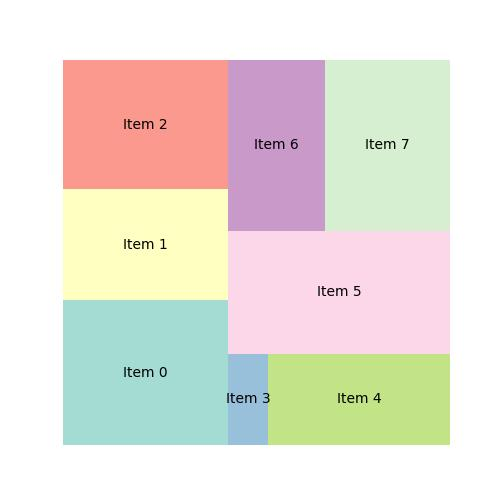rectangle: (226, 231, 448, 356), (62, 301, 229, 445), (64, 60, 228, 190), (326, 60, 449, 231), (62, 187, 229, 301), (228, 59, 325, 231), (269, 356, 451, 446), (229, 354, 269, 446)
